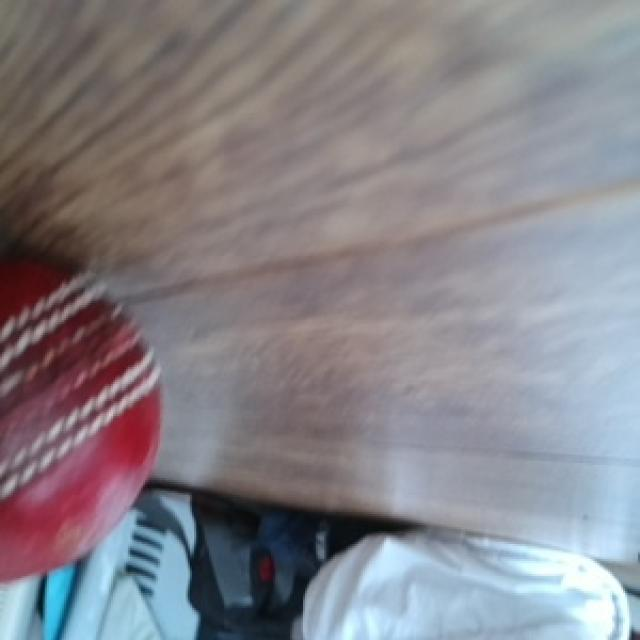ball: (0, 258, 164, 608)
